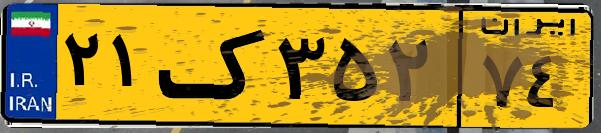1: (110, 28, 158, 98)
2: (385, 28, 445, 110), (57, 26, 110, 100)
3: (270, 28, 330, 110)
4: (525, 38, 570, 115)
5: (330, 28, 385, 110)
7: (475, 38, 525, 113)
ک: (158, 12, 270, 120)
